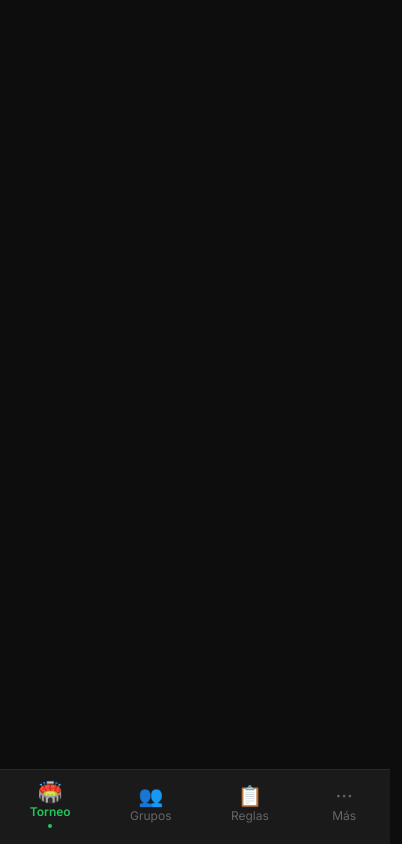
Test: BottomNav › cierra el sheet al hacer click en el overlay
Click the text "Más". click: [344, 816]
box: [332, 808, 356, 824]
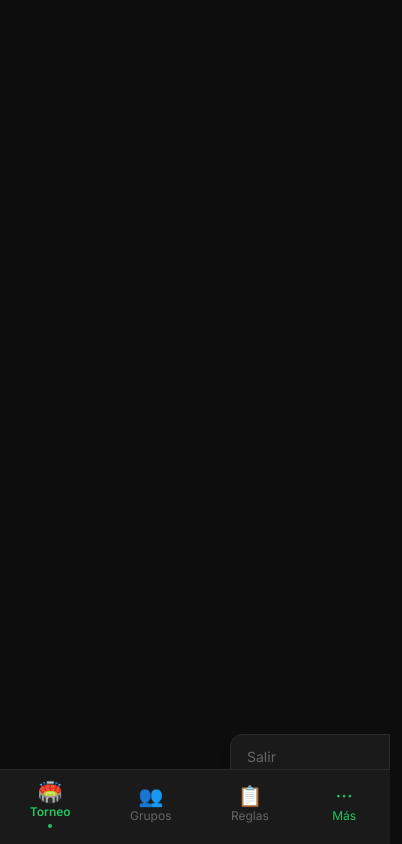
Check: the button "Salir" is shown, box [231, 735, 389, 779]
Click the element with test id "more-overlay". click: [195, 422]
box: [0, 0, 390, 843]
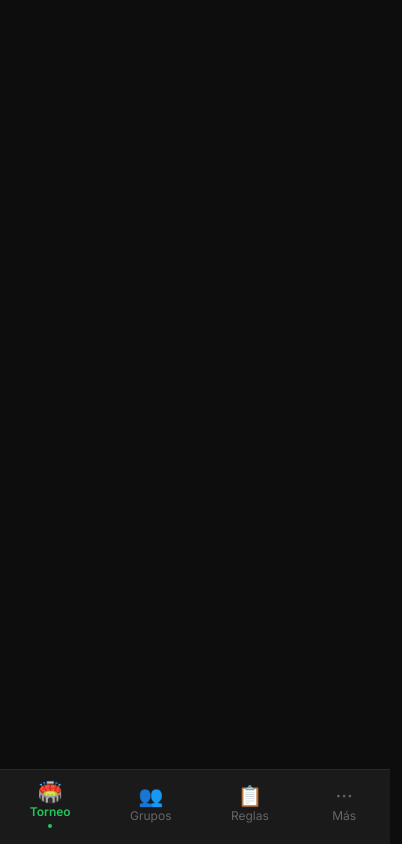
Check: the button "Salir" is gone
